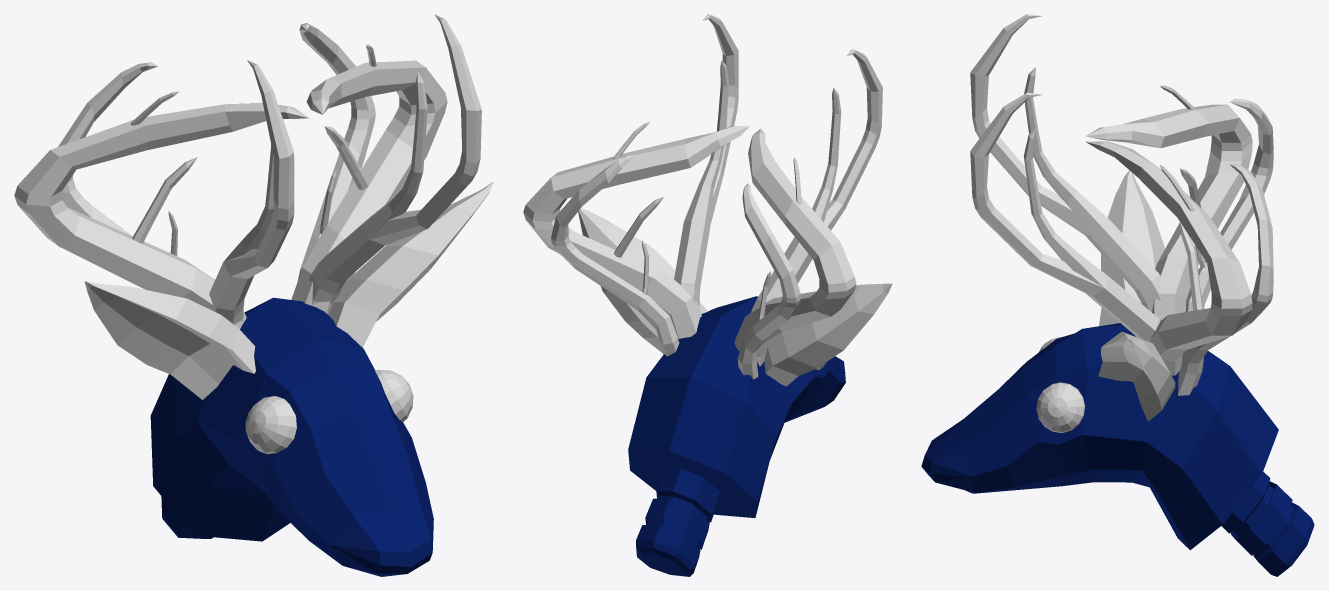
The model's file is deer head.fbx.
3 views of the same model, side by side, from view 1: azimuth 30°, elevation 25°; view 2: azimuth 150°, elevation 25°; view 3: azimuth 270°, elevation 25° (orthographic). The views are drawn at different scales.
Visible parts, largest first — view 1: deer.001; view 2: deer.001; view 3: deer.001.
Part boxes in pixels (<box>): deer.001: <box>14,14,494,576</box>; deer.001: <box>523,14,892,576</box>; deer.001: <box>921,14,1314,576</box>.
Bounding box in the file's own units: 47.42 × 64.72 × 44.58.
